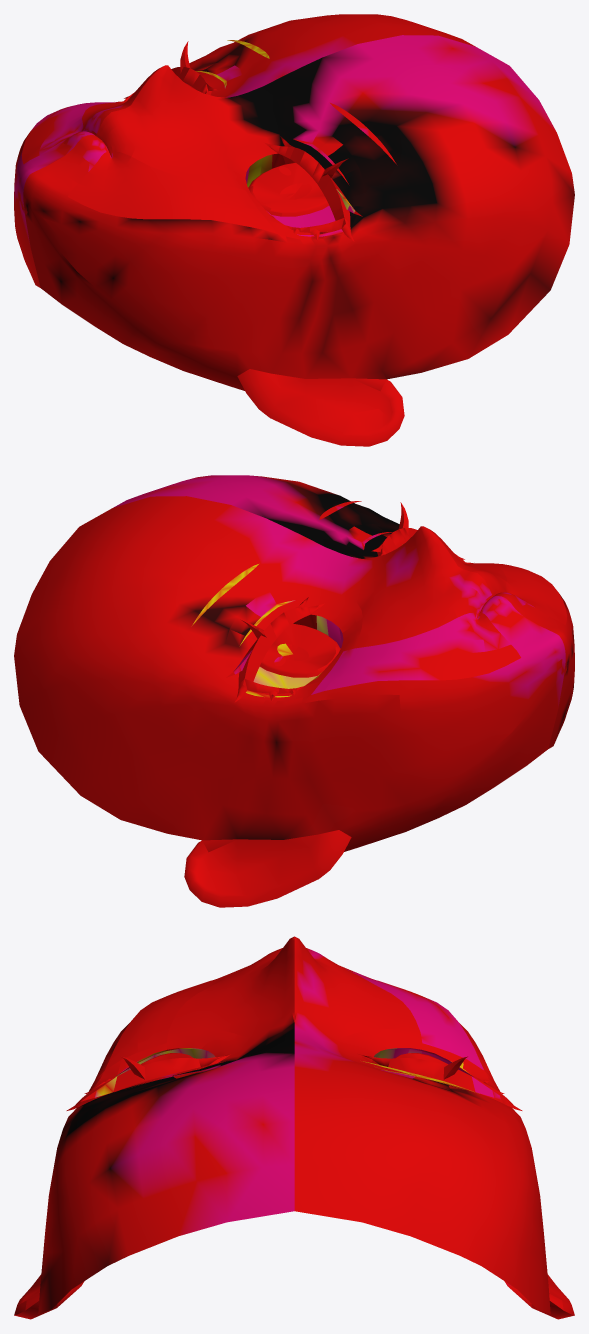
The picture shows the model from 3 angles, top to bottom: view 1: azimuth 30°, elevation 25°; view 2: azimuth 150°, elevation 25°; view 3: azimuth 270°, elevation 25°; orthographic projection. The views are drawn at different scales.
Parts seen in each view (by area): view 1: 脸部模型; view 2: 脸部模型; view 3: 脸部模型.
Part boxes in pixels (x1,y1,x2,y2): 脸部模型: (14, 14, 574, 446); 脸部模型: (14, 475, 574, 907); 脸部模型: (14, 936, 574, 1319).
Bounding box in the file's own units: 0.165 × 0.1004 × 0.1519.
